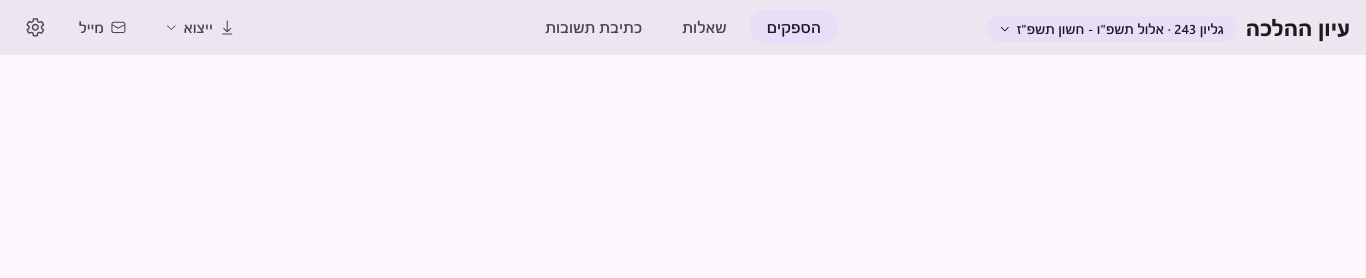
Test: TopBar — בורר גליונות › פותח רשימה עם כל הגליונות, הפעיל מסומן
What coordinates should you click on to do the following:
click the button "גליון 243 · אלול תשפ\"ו - חשון תשפ\"ז"
I would click on:
 (1111, 28)
Its box is [987,15,1236,42].
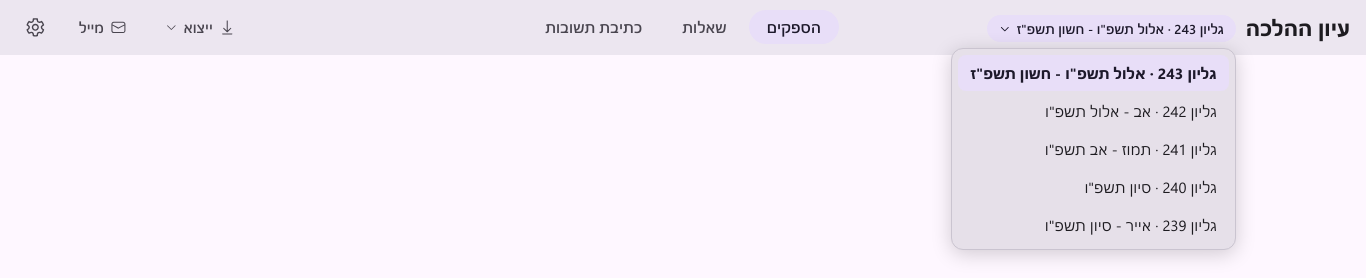
Check: the number of options is 5, box [958,55,1229,91]; [958,93,1229,129]; [958,131,1229,167]; [958,169,1229,205]; [958,207,1229,243]
Check: the option "גליון 243 · אלול תשפ\"ו - חשון תשפ\"ז" is shown, box [958,55,1229,91]
